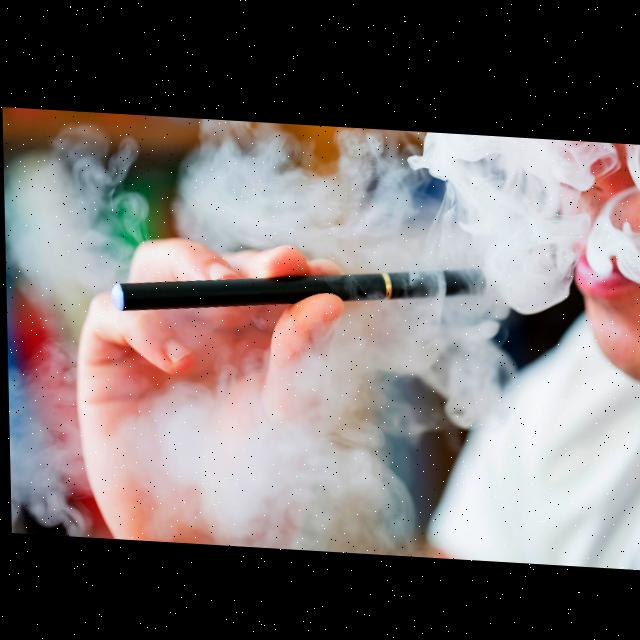vape: (110, 246, 485, 331)
